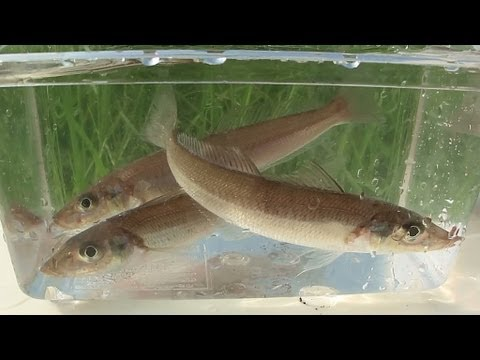kiss: (157, 124, 464, 259)
